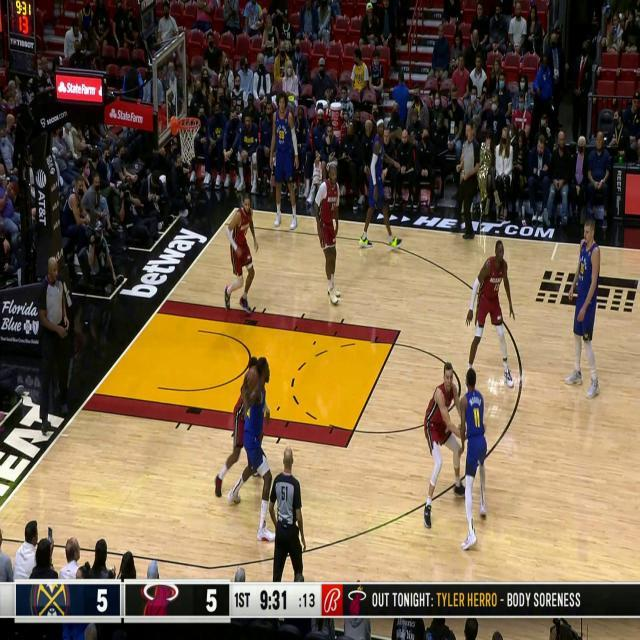rim: (246, 368, 258, 390)
